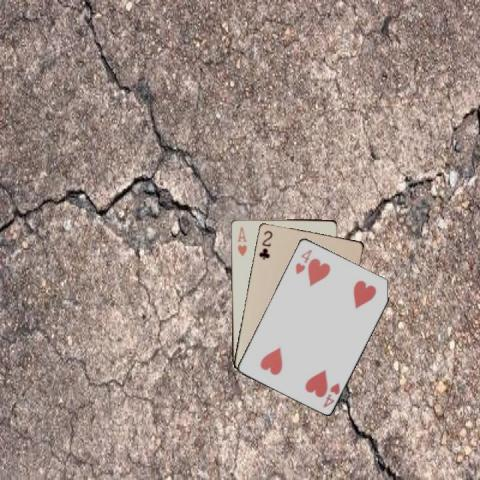2c: (256, 227, 273, 261)
4h: (320, 379, 341, 409), (292, 246, 313, 275)
Ah: (234, 224, 247, 258)
